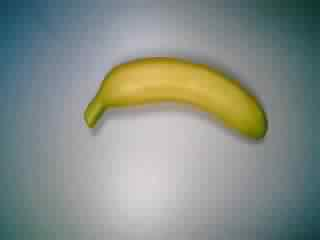banana: (79, 49, 269, 145)
